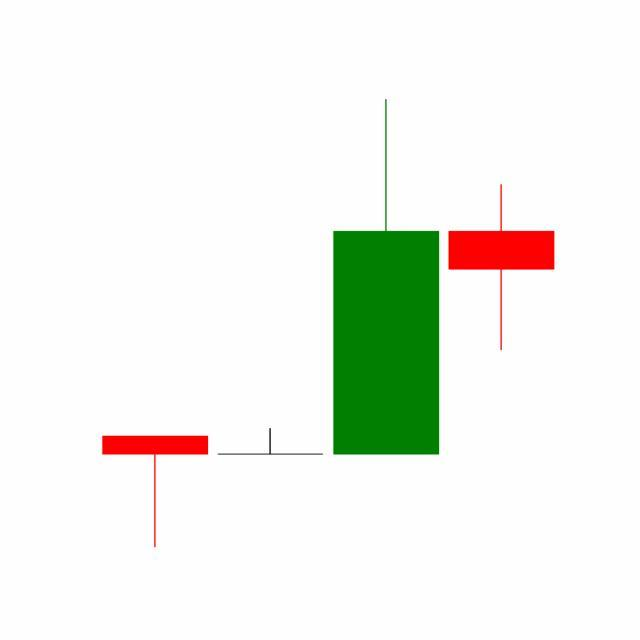Spinning Top: (444, 182, 560, 353)
